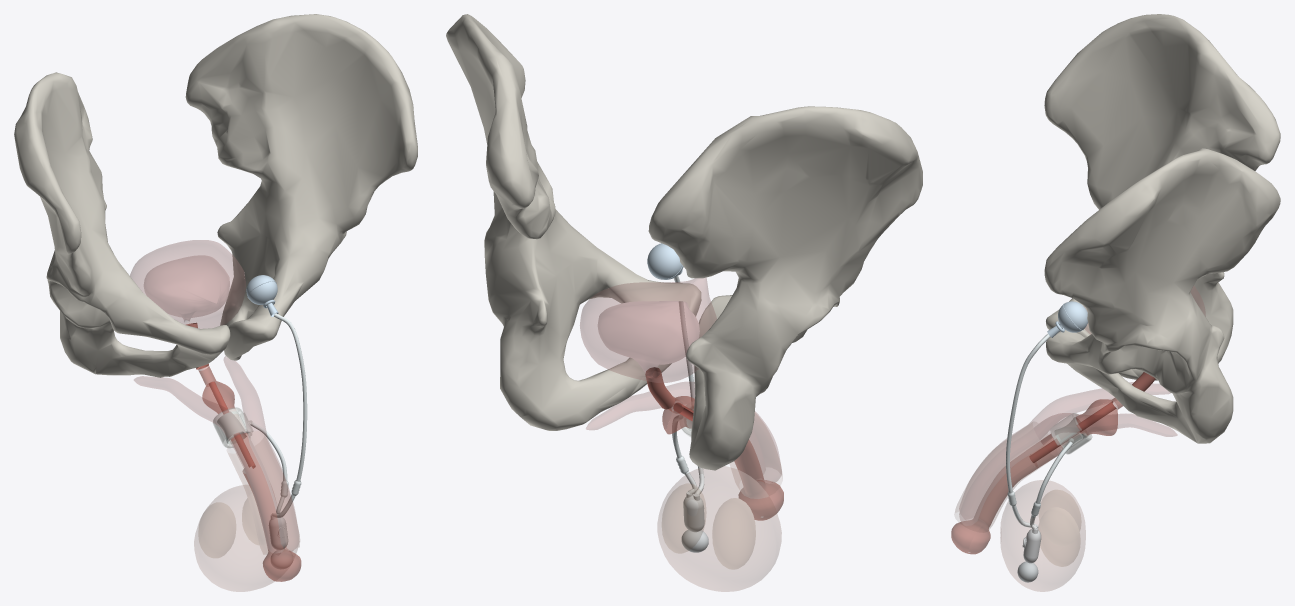
3 views of the same model, side by side, from view 1: azimuth 30°, elevation 25°; view 2: azimuth 150°, elevation 25°; view 3: azimuth 270°, elevation 25° (orthographic). The views are drawn at different scales.
Visible parts, largest first — view 1: HipBone_L_1, HipBone_R_2, Bladder_0, Scrotum_12, Crus_10, Crus_9, Penile_skin_11, Urethra_5, Testis_14, Urethra_6, Tubing_balloon_31, Cuff_15 (+3 smaller); view 2: HipBone_R_2, HipBone_L_1, Bladder_0, Scrotum_12, Testis_14, Testis_13, Urethra_5, Crus_9, Crus_10, Balloon_20, Penile_skin_11, Outlet_3 (+3 smaller); view 3: HipBone_L_1, HipBone_R_2, Scrotum_12, Crus_9, Urethra_5, Crus_10, Penile_skin_11, Urethra_6, Testis_13, Tubing_balloon_31, Urethra_7, Balloon_20 (+6 smaller).
Boxes of the visible parts, bbox=[...] form: HipBone_L_1: bbox=[185, 14, 417, 360]; HipBone_R_2: bbox=[14, 72, 230, 377]; Bladder_0: bbox=[130, 240, 245, 328]; Scrotum_12: bbox=[194, 485, 297, 591]; Crus_10: bbox=[134, 376, 285, 554]; Crus_9: bbox=[224, 356, 298, 551]; Penile_skin_11: bbox=[227, 435, 299, 554]; Urethra_5: bbox=[242, 462, 301, 581]; Testis_14: bbox=[199, 503, 235, 557]; Urethra_6: bbox=[202, 381, 257, 466]; Tubing_balloon_31: bbox=[271, 313, 307, 517]; Cuff_15: bbox=[213, 407, 251, 448]; HipBone_R_2: bbox=[648, 106, 922, 470]; HipBone_L_1: bbox=[446, 14, 701, 430]; Bladder_0: bbox=[580, 278, 716, 382]; Scrotum_12: bbox=[657, 466, 781, 591]; Testis_14: bbox=[712, 498, 755, 568]; Testis_13: bbox=[662, 484, 705, 552]; Urethra_5: bbox=[734, 440, 783, 520]; Crus_9: bbox=[586, 382, 765, 469]; Crus_10: bbox=[749, 411, 781, 483]; Balloon_20: bbox=[647, 243, 683, 279]; Penile_skin_11: bbox=[730, 413, 782, 488]; Outlet_3: bbox=[645, 367, 674, 409]; HipBone_L_1: bbox=[1044, 148, 1280, 443]; HipBone_R_2: bbox=[1044, 14, 1280, 380]; Scrotum_12: bbox=[1000, 480, 1085, 591]; Crus_9: bbox=[959, 413, 1176, 525]; Urethra_5: bbox=[951, 452, 1036, 554]; Crus_10: bbox=[959, 382, 1169, 509]; Penile_skin_11: bbox=[955, 422, 1054, 530]; Urethra_6: bbox=[1026, 399, 1117, 468]; Testis_13: bbox=[1038, 507, 1080, 566]; Tubing_balloon_31: bbox=[1006, 334, 1050, 527]; Urethra_7: bbox=[1031, 401, 1117, 467]; Balloon_20: bbox=[1058, 301, 1087, 332].
Size of the model in its own units: 0.2698 by 0.332 by 0.1992.
